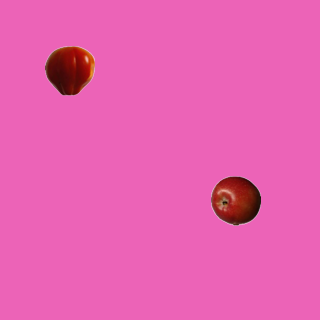Apple Braeburn: (210, 175, 260, 225)
Tomato 1: (44, 45, 94, 95)
